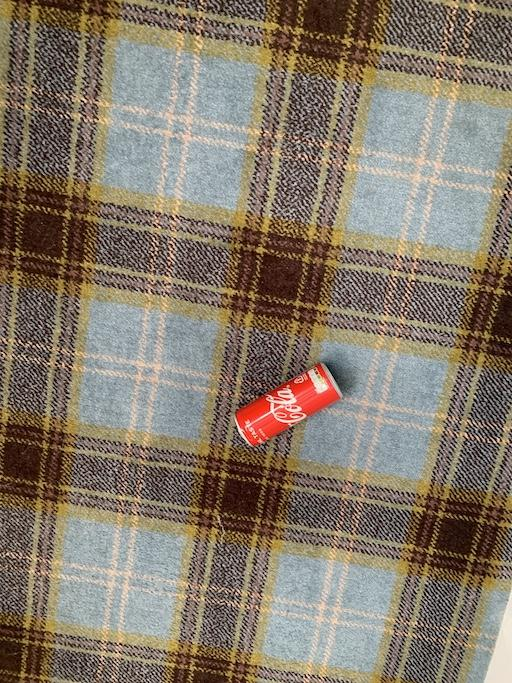Aluminum can: (218, 350, 368, 450)
